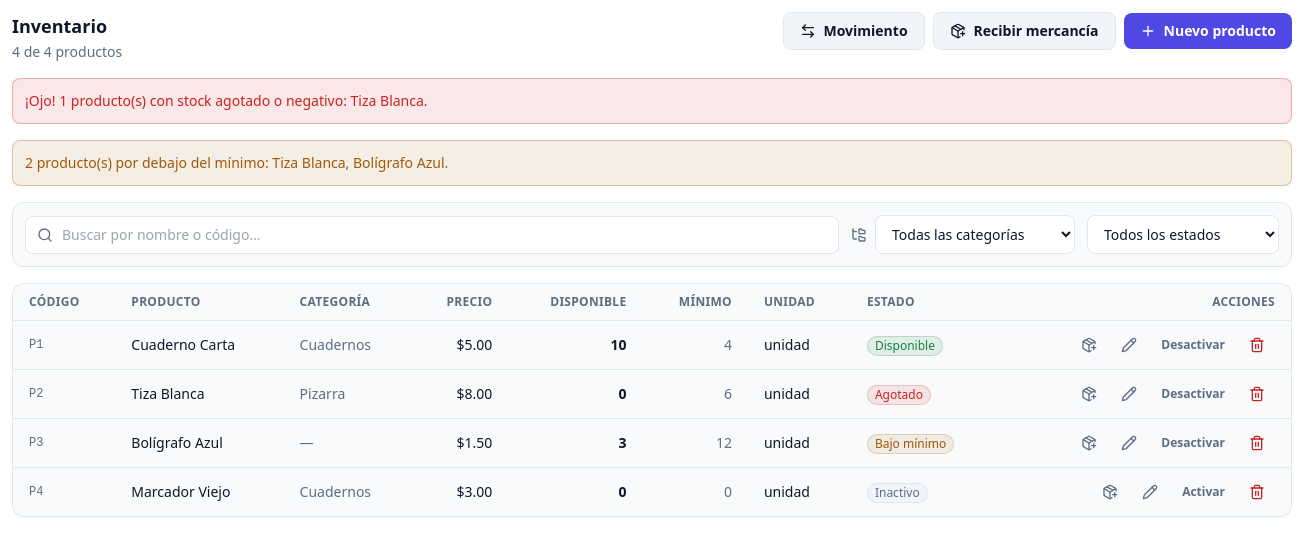
InventarioPage › filtra por categoría, por los que no tienen ninguna y por estado
Expected: the text "Cuaderno Carta" is shown, [131,335,235,354]
Select "Cuadernos" in the dropdown named "Filtrar por categoría": (975, 234) [875,215,1075,254]
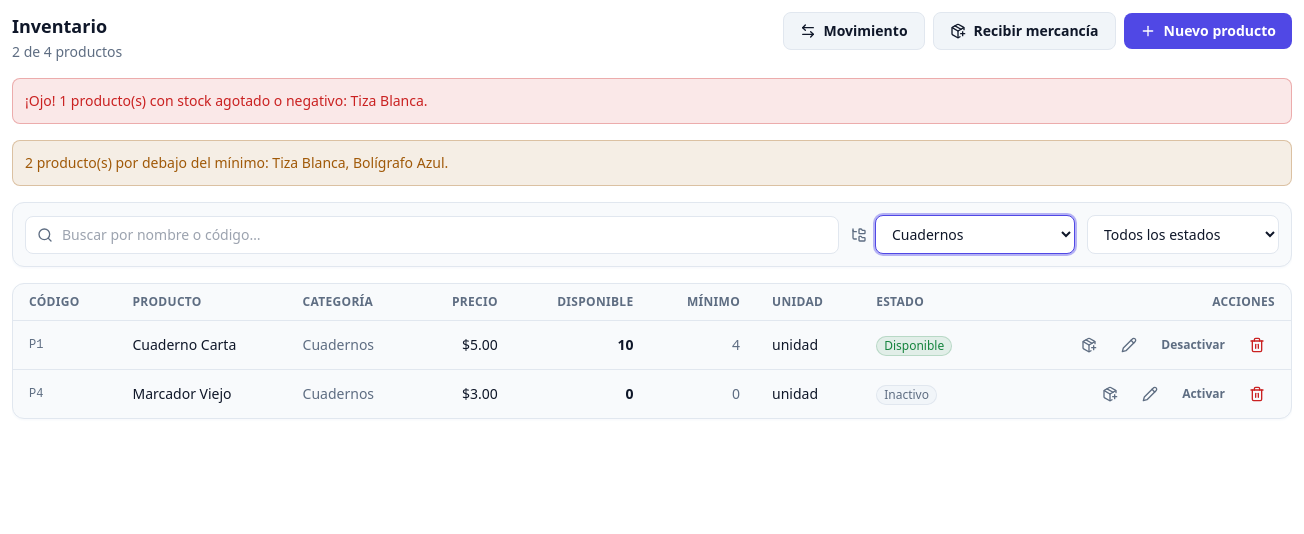
Expected: the text "Cuaderno Carta" is shown, [132,335,236,354]
Select "Sin categoría" in the dropdown named "Filtrar por categoría": (975, 234) [875,215,1075,254]
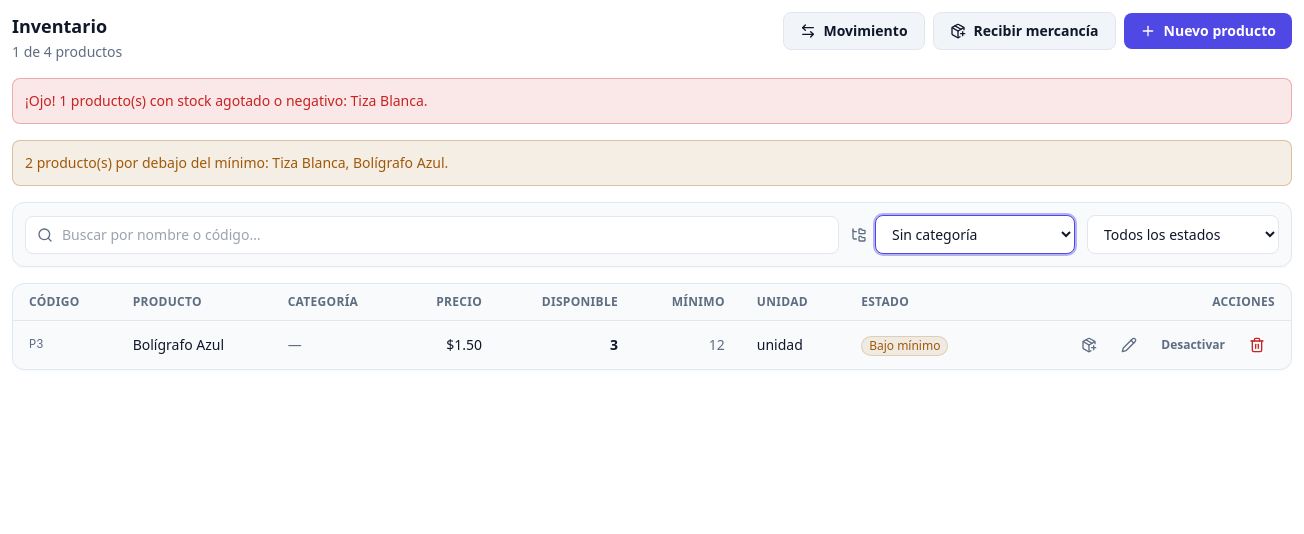
Expected: the text "Bolígrafo Azul" is shown, [133,335,224,354]
Expected: the text "Cuaderno Carta" is gone
Select "Todas las categorías" in the dropdown named "Filtrar por categoría": (975, 234) [875,215,1075,254]
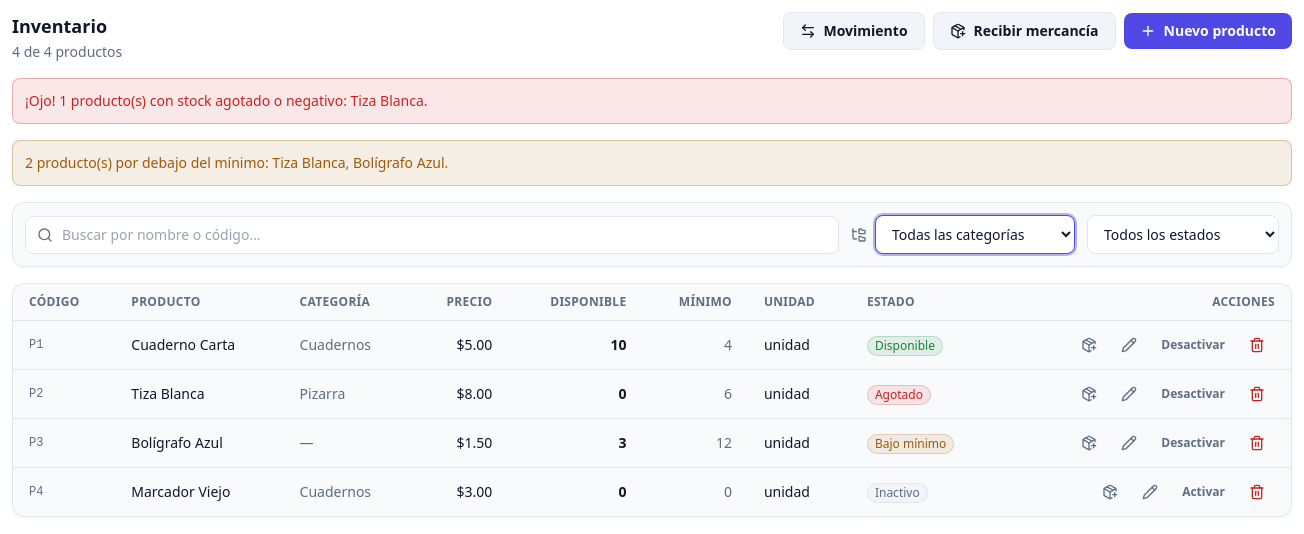
Select "Inactivos" in the dropdown named "Filtrar por estado": (1183, 234) [1087,215,1279,254]
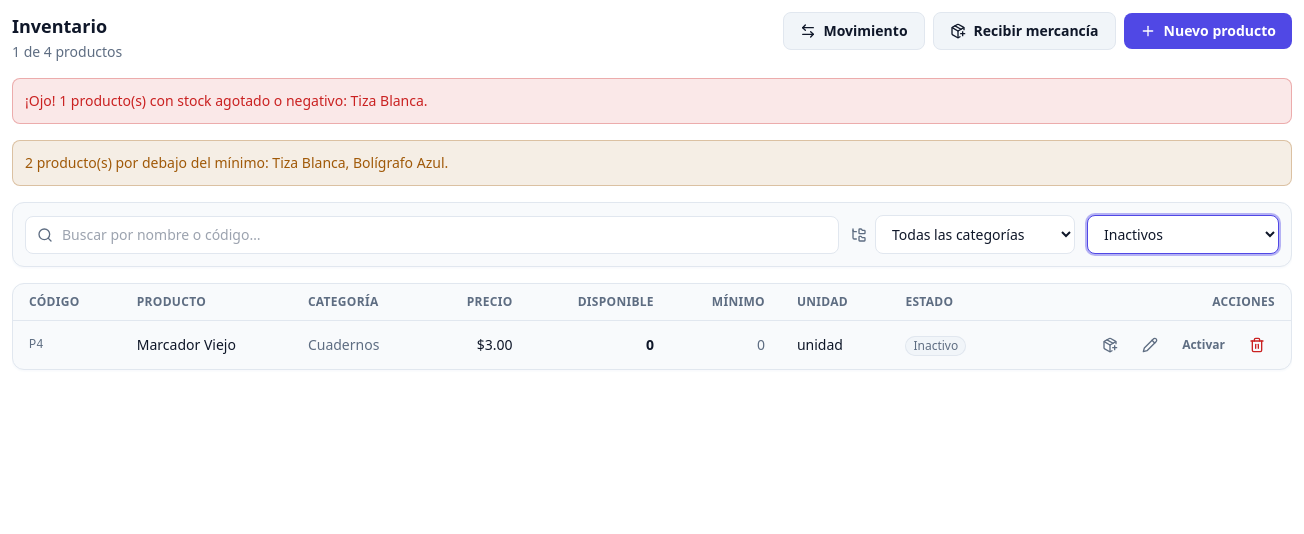
Expected: the text "Marcador Viejo" is shown, [137,335,236,354]
Expected: the text "Cuaderno Carta" is gone
